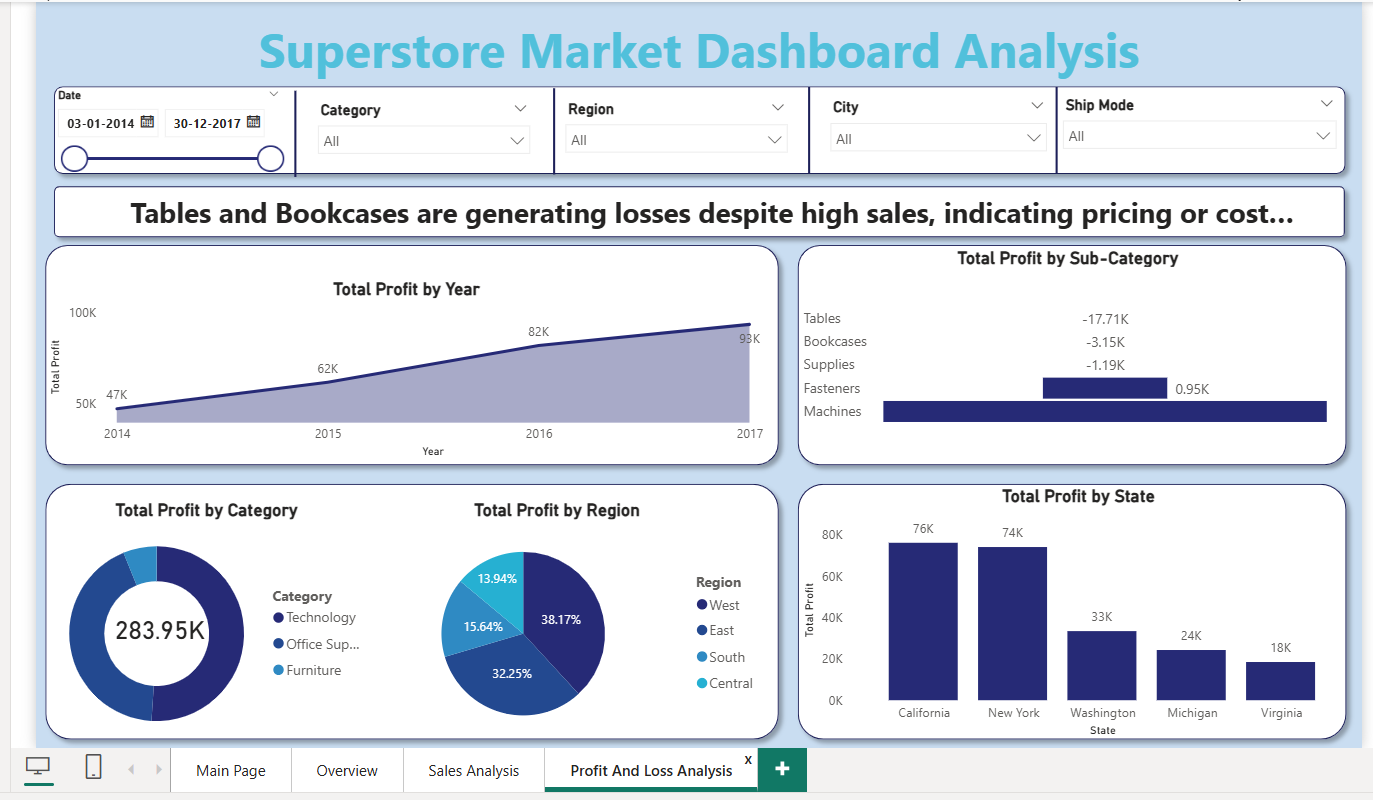

This screenshot's page, from the dashboard's own definition file:
{"tool":"powerbi","page":{"name":"Profit And Loss Analysis","canvas":[1280,720],"ordinal":3},"visuals":[{"type":"shape","box":[0,0,1280.3,89.2],"z":0},{"type":"shape","box":[8.4,72.4,1264.3,102.5],"z":1000},{"type":"shape","box":[0,455.6,725.9,264.8],"z":2000},{"type":"slicer","fields":{"Values":["Date_Table.Date"]},"box":[8.2,78.2,238.8,90.6],"z":3000},{"type":"shape","box":[0,225,725.9,230.5],"z":4000},{"type":"shape","box":[725.9,455.6,547.5,264.8],"z":5000},{"type":"slicer","fields":{"Values":["final_output.Category"]},"box":[262.1,90.6,225,67.2],"z":6000},{"type":"slicer","fields":{"Values":["final_output.Region"]},"box":[500.9,89.2,234.6,64.5],"z":7000},{"type":"slicer","fields":{"Values":["final_output.City"]},"box":[756.1,87.8,229.2,65.9],"z":8000},{"type":"slicer","fields":{"Values":["final_output.Ship Mode"]},"box":[981.1,85.1,284,68.6],"z":9000},{"type":"donutChart","fields":{"Category":["final_output.Category"],"Y":["Date_Table.Total Profit"]},"box":[0,480.3,329.3,240.1],"z":10000},{"type":"cardVisual","fields":{"Data":["Date_Table.Total Profit"]},"box":[59.1,489.8,167.7,224.4],"z":11000},{"type":"pieChart","fields":{"Category":["final_output.Region"],"Y":["Date_Table.Total Profit"]},"box":[299.1,480.3,407.5,240.1],"z":12000},{"type":"areaChart","fields":{"Category":["Date_Table.Year"],"Y":["Date_Table.Total Profit"]},"box":[8.2,266.2,698.5,178.4],"z":13000},{"type":"shape","box":[725.9,225,547.5,230.5],"z":14000},{"type":"clusteredColumnChart","fields":{"Category":["final_output.State"],"Y":["Date_Table.Total Profit"]},"box":[735.5,466.6,540.7,247],"z":15000},{"type":"shape","box":[8.2,168.8,1263.8,67.2],"z":16000},{"type":"funnel","fields":{"Category":["final_output.Sub-Category"],"Y":["Date_Table.Total Profit"]},"box":[735.5,236,520.1,208.6],"z":17000},{"type":"shape","box":[100.1,85.7,300.4,83.2],"z":17001},{"type":"shape","box":[596,82,300.4,83.2],"z":17002},{"type":"shape","box":[349.9,83.2,300.4,83.2],"z":17003},{"type":"shape","box":[834.9,82,300.4,83.2],"z":17004}]}

Visuals, with their boxes on the page's 1280x720 design canvas (x1, y1, x2, y2). These are canvas units, not pixel positions in the 1373x800 screenshot, which may show the page scaled, cropped or inside an application window:
shape: crop(0, 0, 1280, 89)
shape: crop(8, 72, 1273, 175)
shape: crop(0, 456, 726, 720)
slicer - Date_Table.Date: crop(8, 78, 247, 169)
shape: crop(0, 225, 726, 456)
shape: crop(726, 456, 1273, 720)
slicer - final_output.Category: crop(262, 91, 487, 158)
slicer - final_output.Region: crop(501, 89, 736, 154)
slicer - final_output.City: crop(756, 88, 985, 154)
slicer - final_output.Ship Mode: crop(981, 85, 1265, 154)
donutChart - final_output.Category x Date_Table.Total Profit: crop(0, 480, 329, 720)
cardVisual - Date_Table.Total Profit: crop(59, 490, 227, 714)
pieChart - final_output.Region x Date_Table.Total Profit: crop(299, 480, 707, 720)
areaChart - Date_Table.Year x Date_Table.Total Profit: crop(8, 266, 707, 445)
shape: crop(726, 225, 1273, 456)
clusteredColumnChart - final_output.State x Date_Table.Total Profit: crop(736, 467, 1276, 714)
shape: crop(8, 169, 1272, 236)
funnel - final_output.Sub-Category x Date_Table.Total Profit: crop(736, 236, 1256, 445)
shape: crop(100, 86, 400, 169)
shape: crop(596, 82, 896, 165)
shape: crop(350, 83, 650, 166)
shape: crop(835, 82, 1135, 165)
